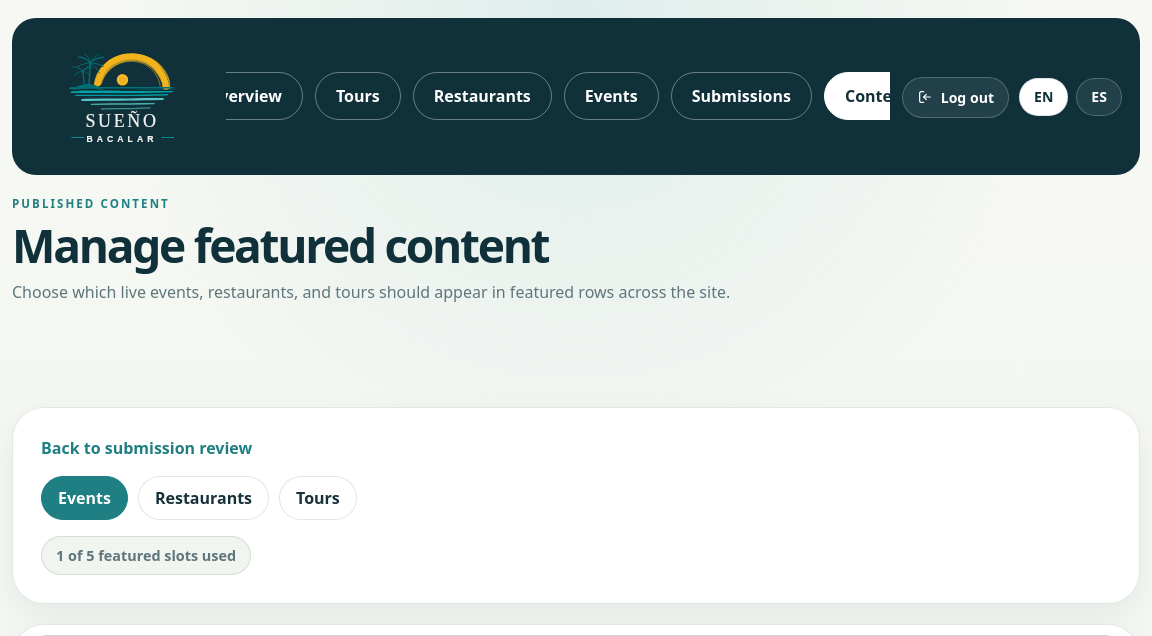
Test: admin access flow › shows published content management and lets admins switch content types
Check: the heading "Manage featured content" is shown, box [12,214,548,277]
Check: the text "1 of 5 featured slots used" is shown, box [41,536,251,576]
Click the button "Restaurants" at (203, 498), box [138,476,269,520]
(page scrolled)
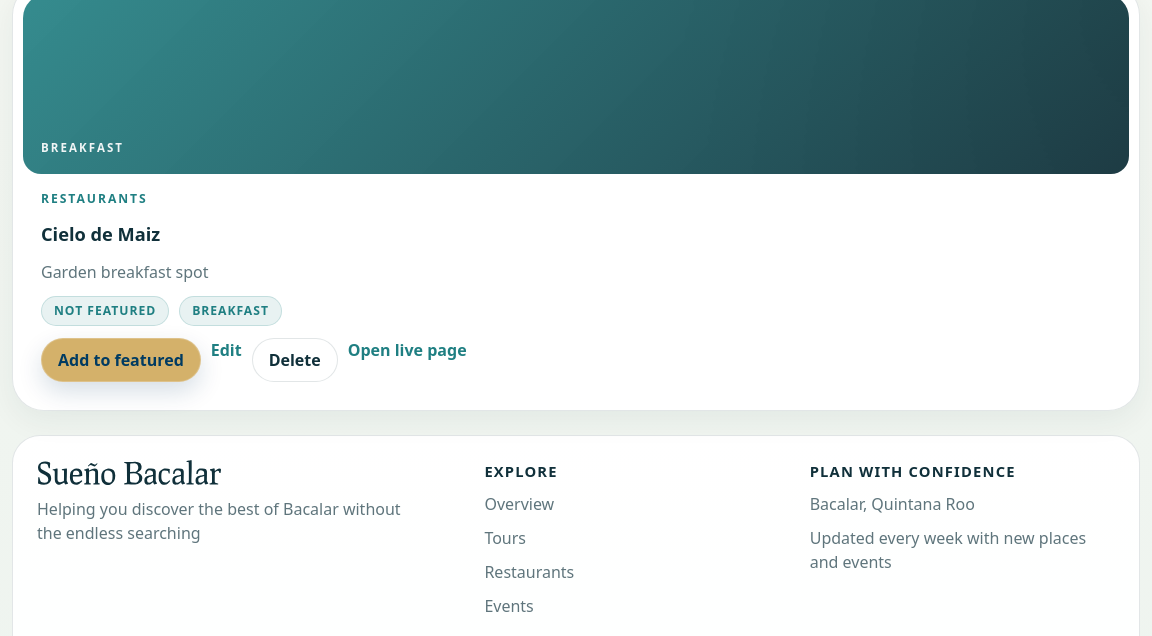
Check: the heading "Cielo de Maiz" is shown, box [41,222,160,246]
Check: the button "Add to featured" is shown, box [41,338,201,382]
